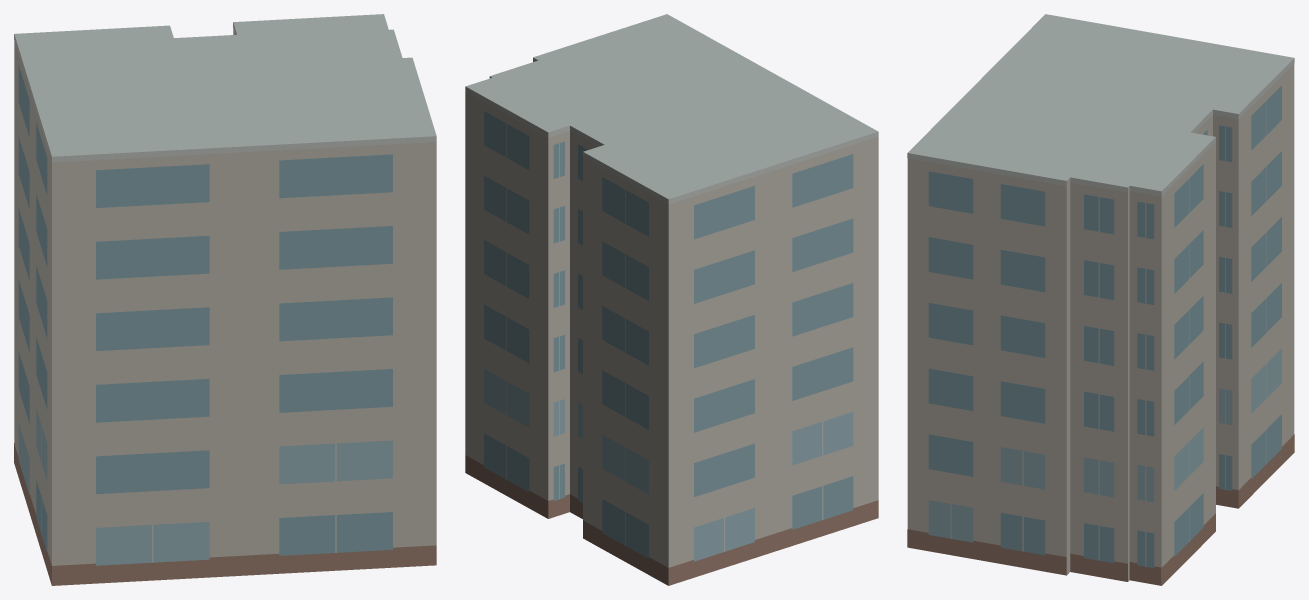
Rendered from survey-upis-32759688.glb.
3 renders of one model, left to right at view 1: azimuth 30°, elevation 25°; view 2: azimuth 150°, elevation 25°; view 3: azimuth 270°, elevation 25°, orthographic. The views are drawn at different scales.
Visible parts, largest first — view 1: survey-upis-32759688.tmp; view 2: survey-upis-32759688.tmp; view 3: survey-upis-32759688.tmp.
Part boxes in pixels (left/top/right/bottom): survey-upis-32759688.tmp: left=14, top=14, right=436, bottom=585; survey-upis-32759688.tmp: left=465, top=14, right=878, bottom=585; survey-upis-32759688.tmp: left=907, top=14, right=1294, bottom=585.
Size of the model in its own units: 17.65 by 18.3 by 16.28.
